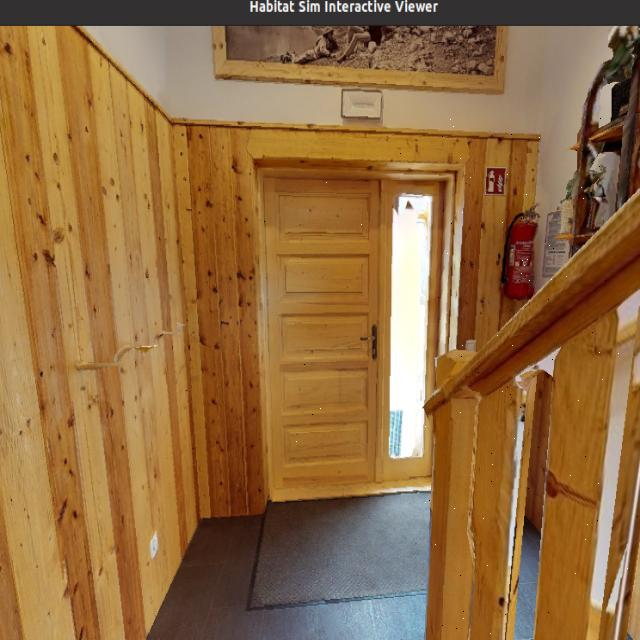door: (253, 168, 379, 490)
stairs: (423, 117, 640, 640)
